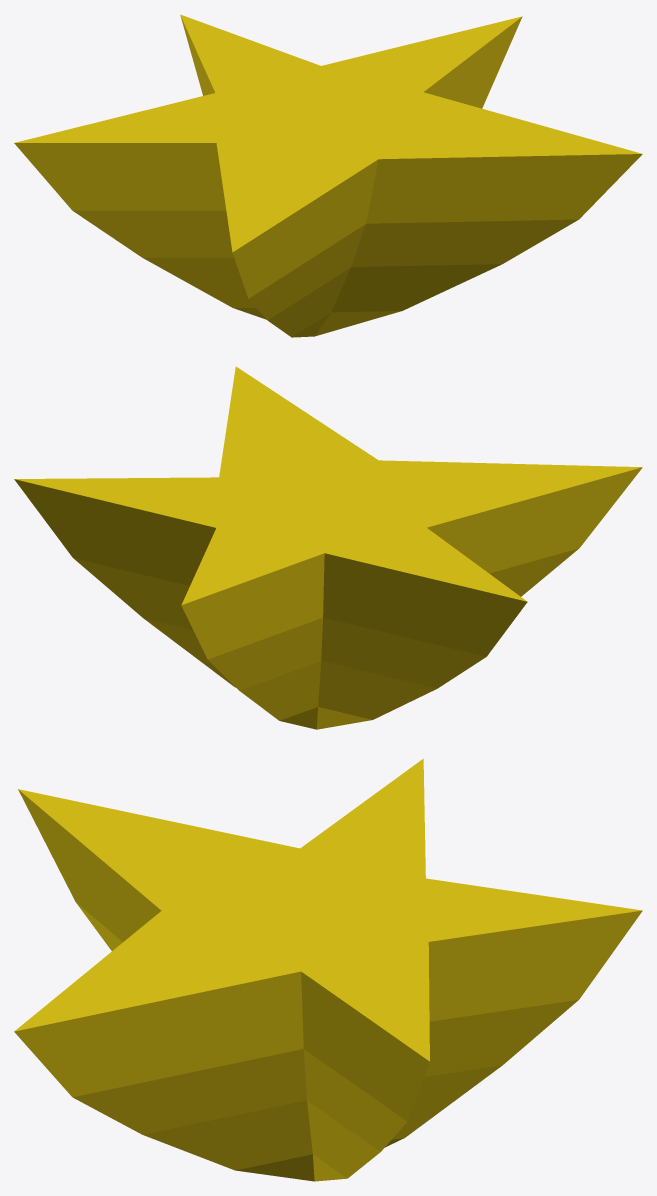
File: flatStar.fbx
3 views of the same model, one above another, from view 1: azimuth 30°, elevation 25°; view 2: azimuth 150°, elevation 25°; view 3: azimuth 270°, elevation 25° (orthographic). The views are drawn at different scales.
Parts seen in each view (by area): view 1: Vert; view 2: Vert; view 3: Vert.
Boxes of the visible parts, x1,y1,x2,y2 form: Vert: [14, 14, 642, 337]; Vert: [14, 366, 642, 729]; Vert: [14, 758, 642, 1181].
Bounding box in the file's own units: 996 × 416 × 873.
